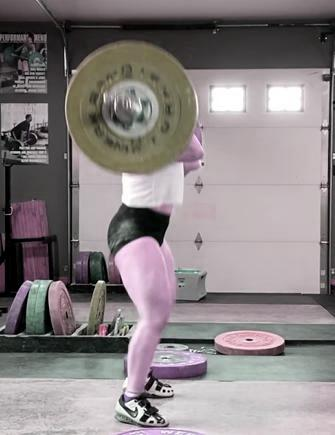Barbell: (107, 88, 136, 116)
